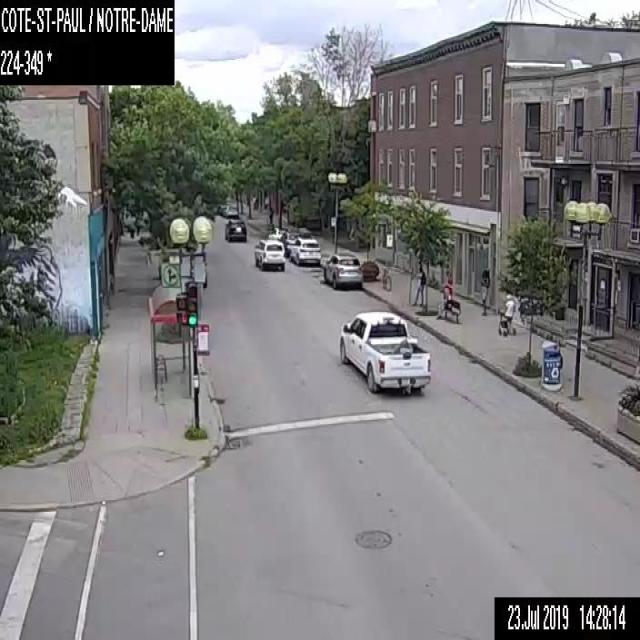pedestrian: (497, 293, 516, 336), (442, 275, 460, 318), (411, 263, 425, 305), (479, 268, 489, 315)
vehicle: (337, 308, 432, 395), (322, 250, 364, 290), (253, 238, 285, 271), (289, 237, 320, 263), (223, 218, 246, 242), (279, 231, 299, 255), (268, 227, 289, 240)
